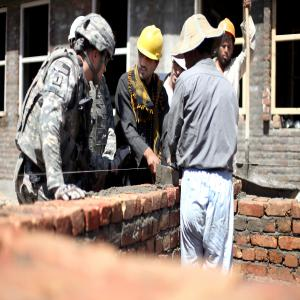none: (181, 14, 214, 69)
yellow: (137, 28, 164, 79), (217, 19, 237, 65)
